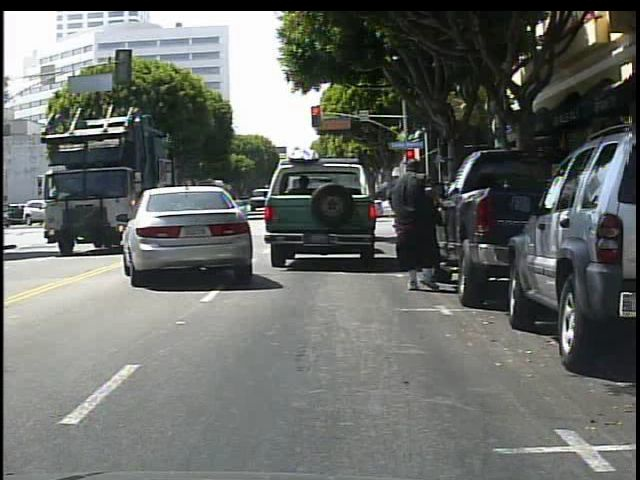person: (395, 158, 450, 294)
